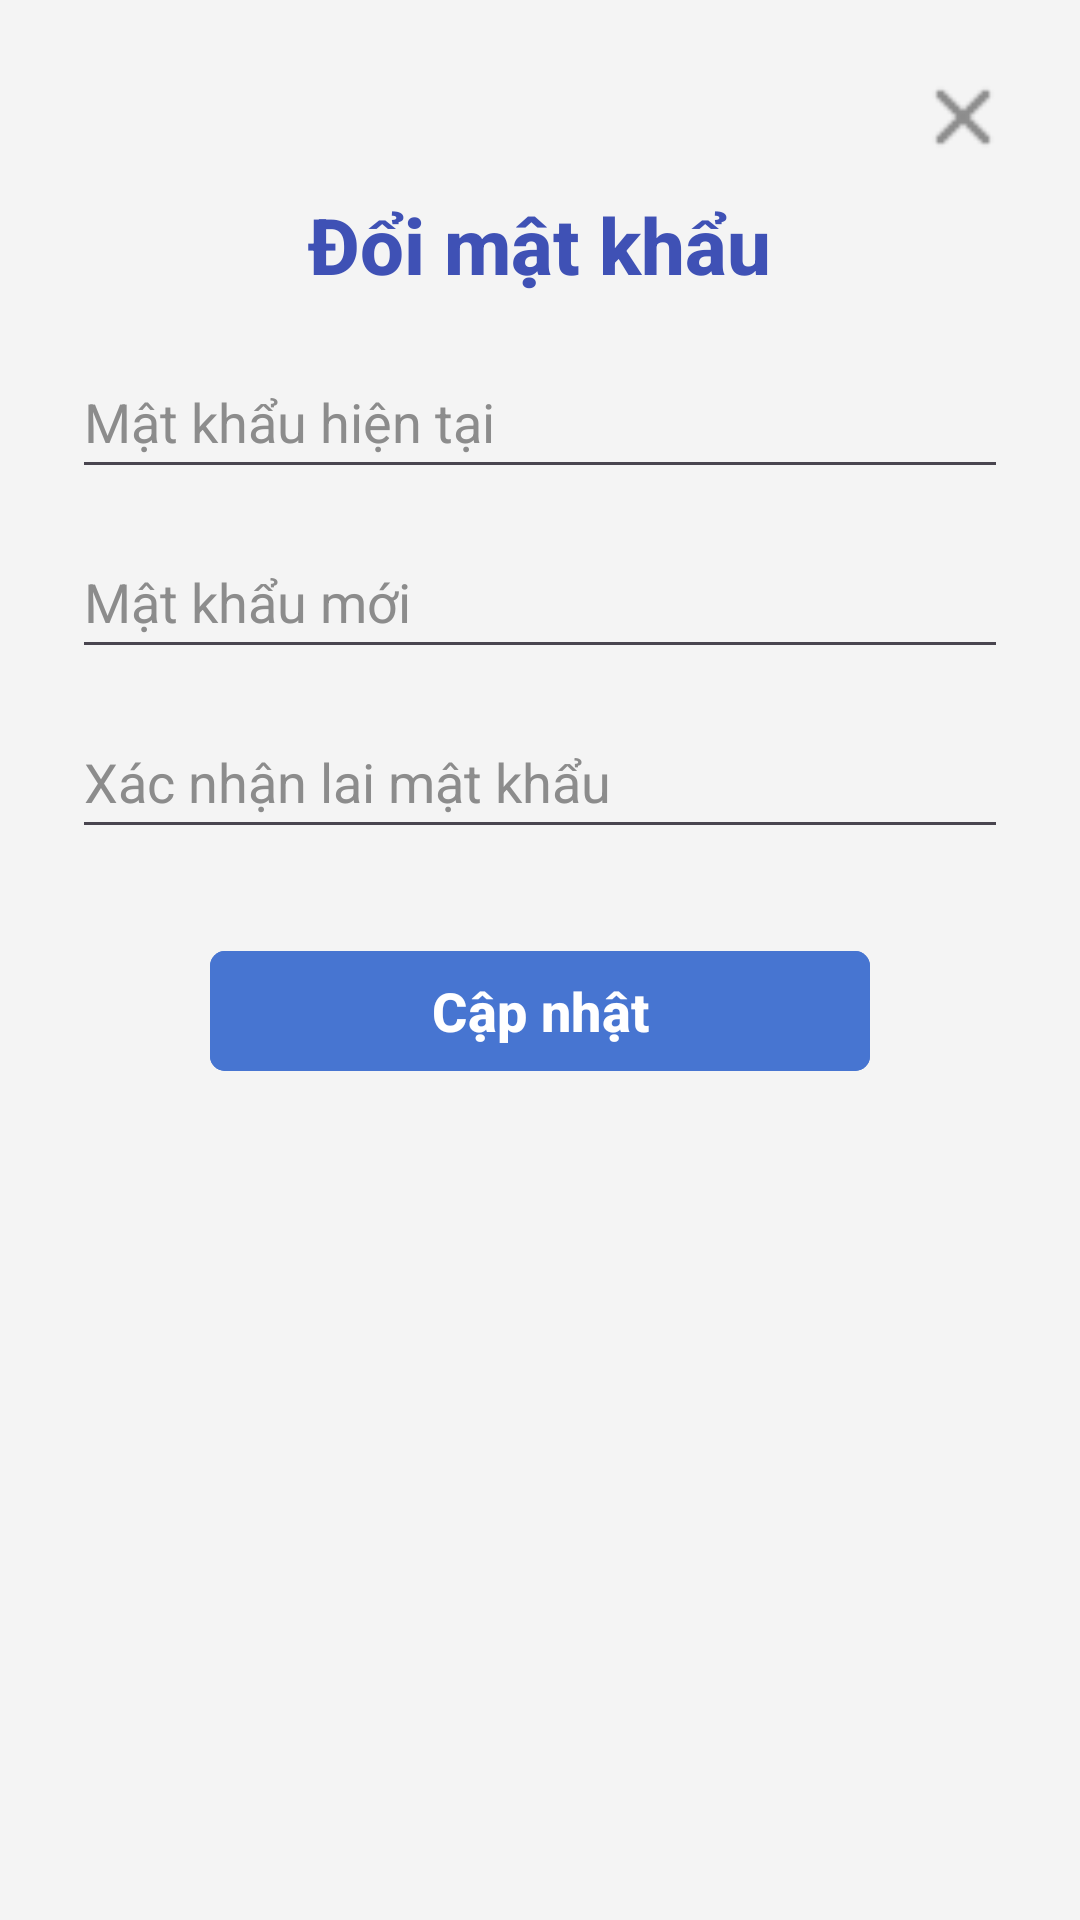

Where to tap for icons on this 1080*1920 app screen, as [x,y]:
close: [963,117]
